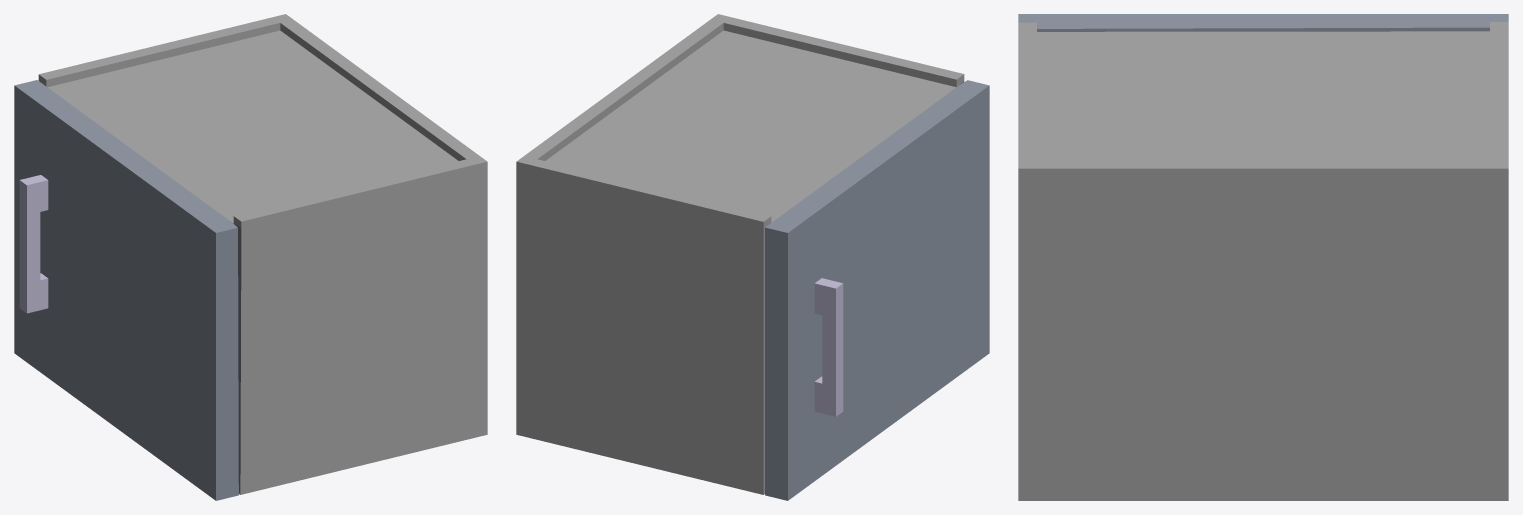
File: Kulkas.fbx
3 views of the same model, side by side, from view 1: azimuth 30°, elevation 25°; view 2: azimuth 150°, elevation 25°; view 3: azimuth 270°, elevation 25° (orthographic). The views are drawn at different scales.
Visible parts, largest first — view 1: Kulkas, Kulkas.pintu.bawah; view 2: Kulkas, Kulkas.pintu.bawah; view 3: Kulkas, Kulkas.pintu.bawah.
Boxes of the visible parts, <box> form: Kulkas: <box>38,14,487,494</box>; Kulkas.pintu.bawah: <box>14,80,241,500</box>; Kulkas: <box>516,14,964,494</box>; Kulkas.pintu.bawah: <box>765,80,989,500</box>; Kulkas: <box>1018,22,1508,500</box>; Kulkas.pintu.bawah: <box>1018,14,1508,31</box>.
Bounding box in the file's own units: 22.07 × 19.66 × 26.31.
